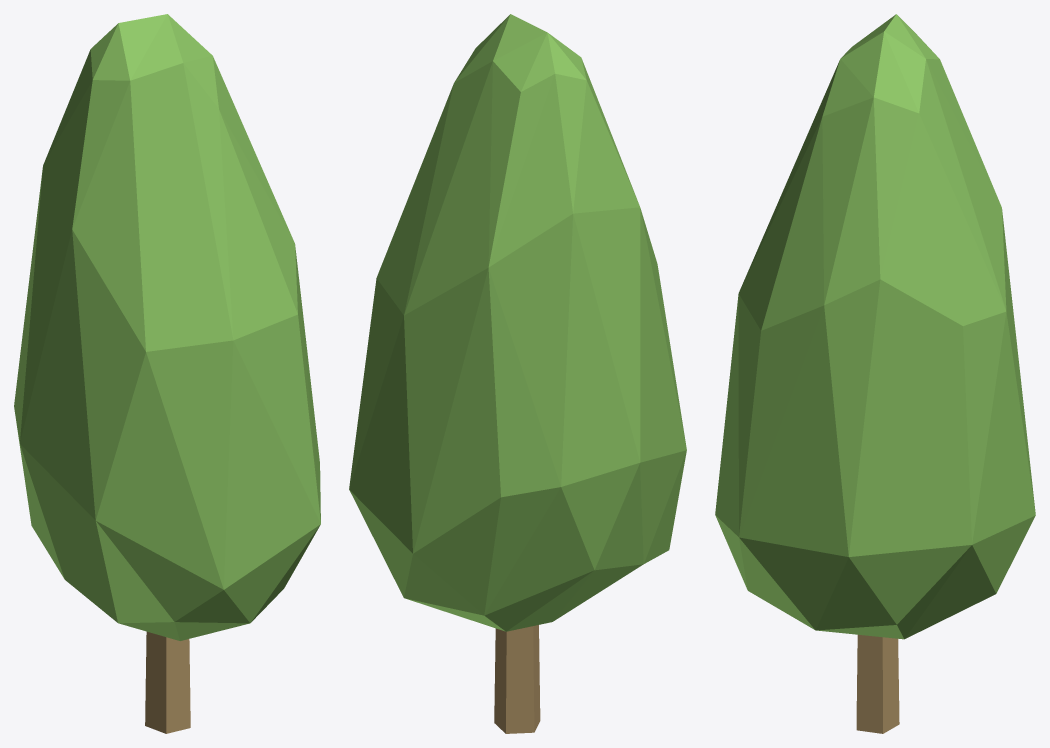
The model's file is Thuja_Tree_m_06_LOD.fbx.
3 views of the same model, side by side, from view 1: azimuth 30°, elevation 25°; view 2: azimuth 150°, elevation 25°; view 3: azimuth 270°, elevation 25° (orthographic). The views are drawn at different scales.
Visible parts, largest first — view 1: Thuja_Tree_m_06_LOD0; view 2: Thuja_Tree_m_06_LOD0; view 3: Thuja_Tree_m_06_LOD0.
Boxes of the visible parts, box(x1,y1,x2,y2) form: Thuja_Tree_m_06_LOD0: box(14, 14, 320, 733); Thuja_Tree_m_06_LOD0: box(349, 14, 686, 733); Thuja_Tree_m_06_LOD0: box(715, 14, 1035, 733).
Size of what is drawn, in the model's own units: 174 by 431 by 181.
